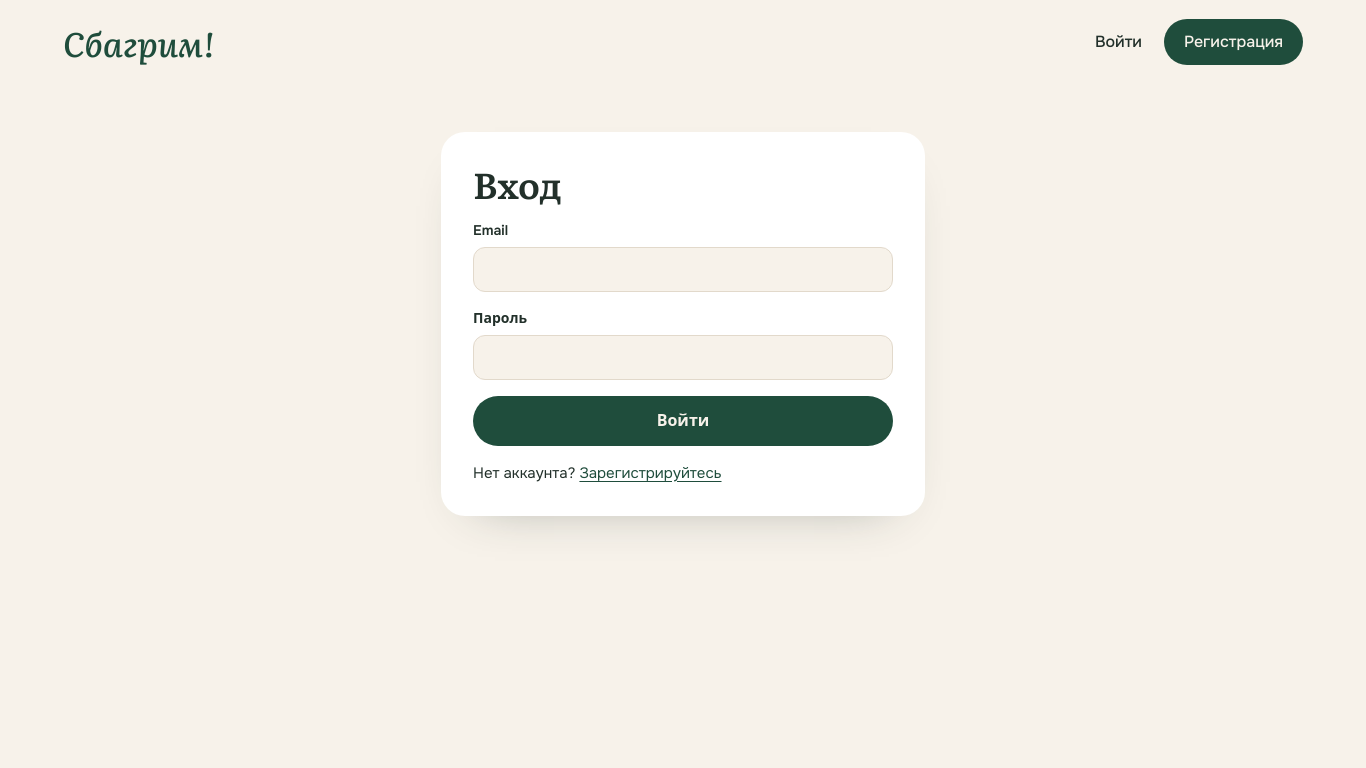
Test case: вход и регистрация › после входа показывает имя пользователя и сохраняет токен
Type "ivan@mail.ru" into the field labelled "Email" at (683, 269), box [473, 247, 893, 292]
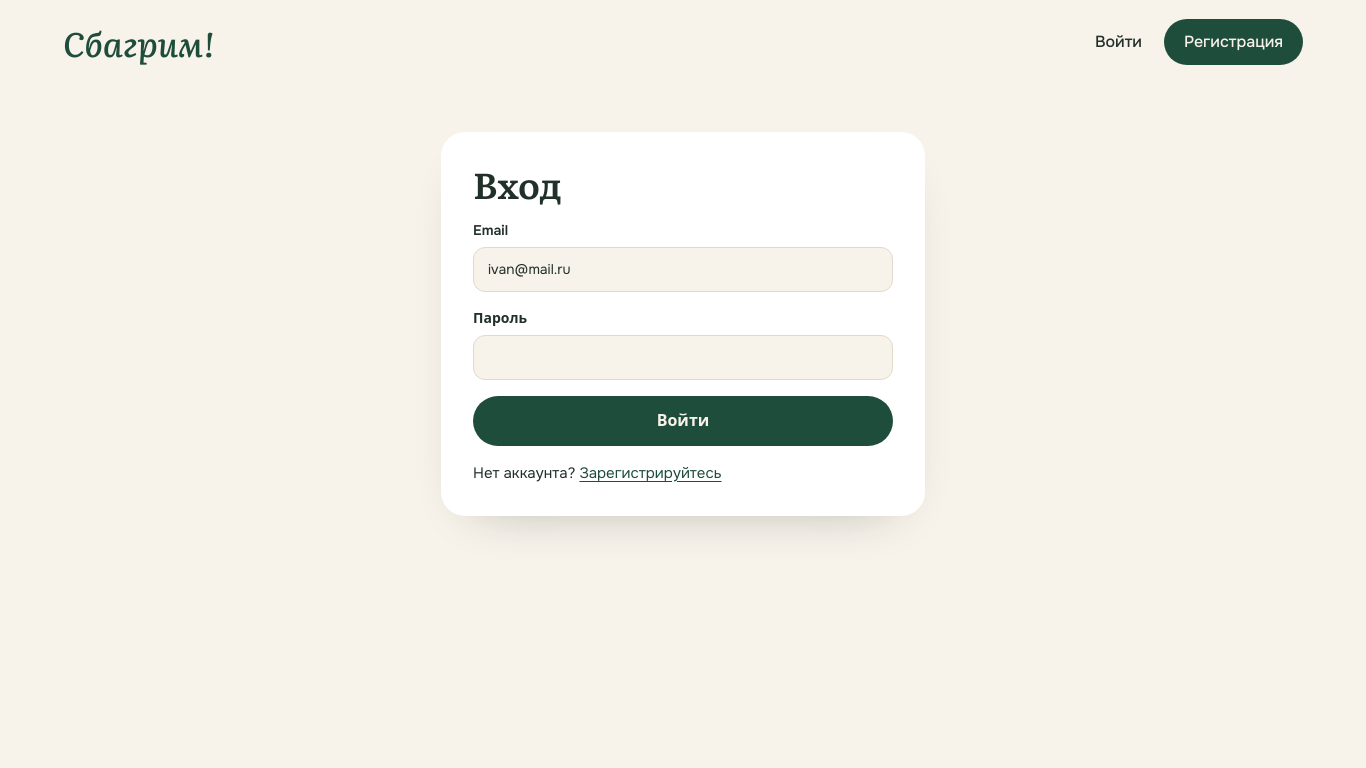
Type "secret12" into the password field labelled "Пароль" at (683, 357), box [473, 335, 893, 380]
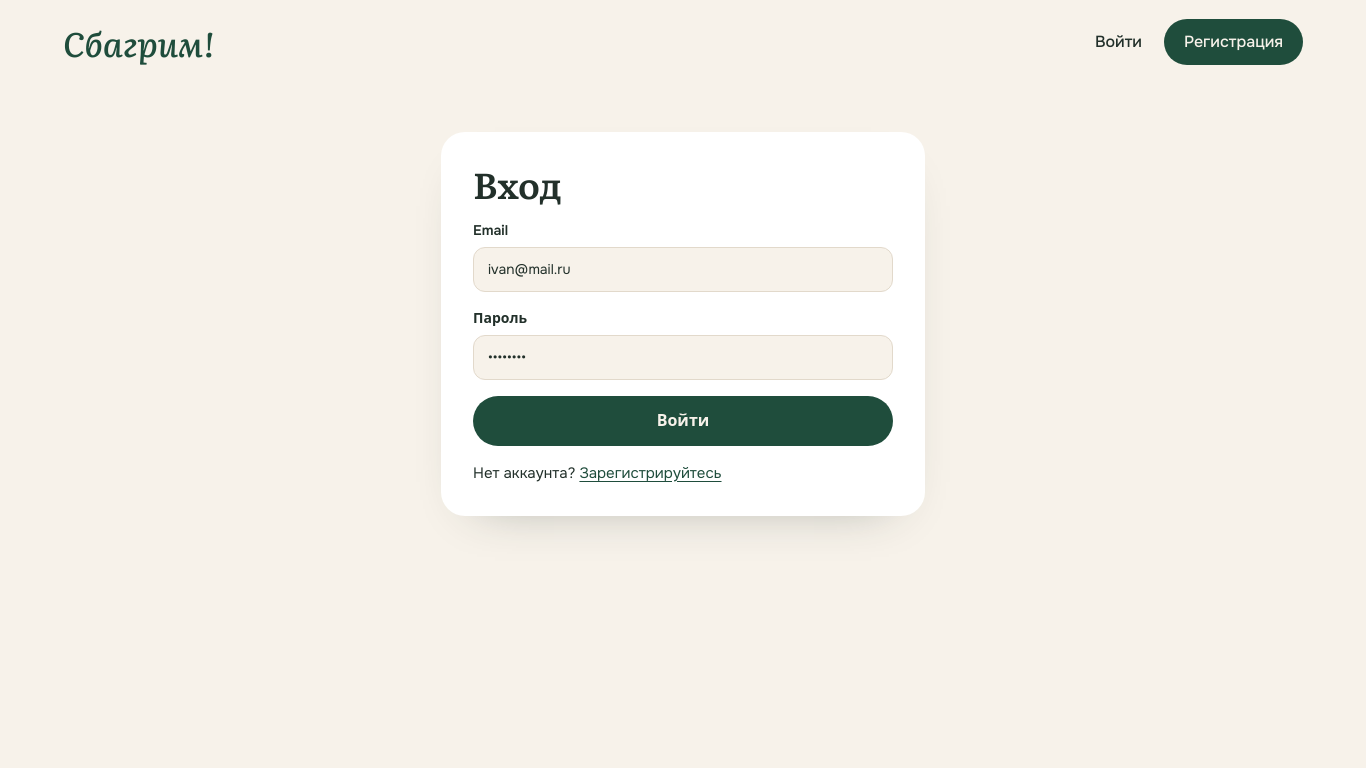
Click the button "Войти" at (683, 421), box [473, 396, 893, 446]
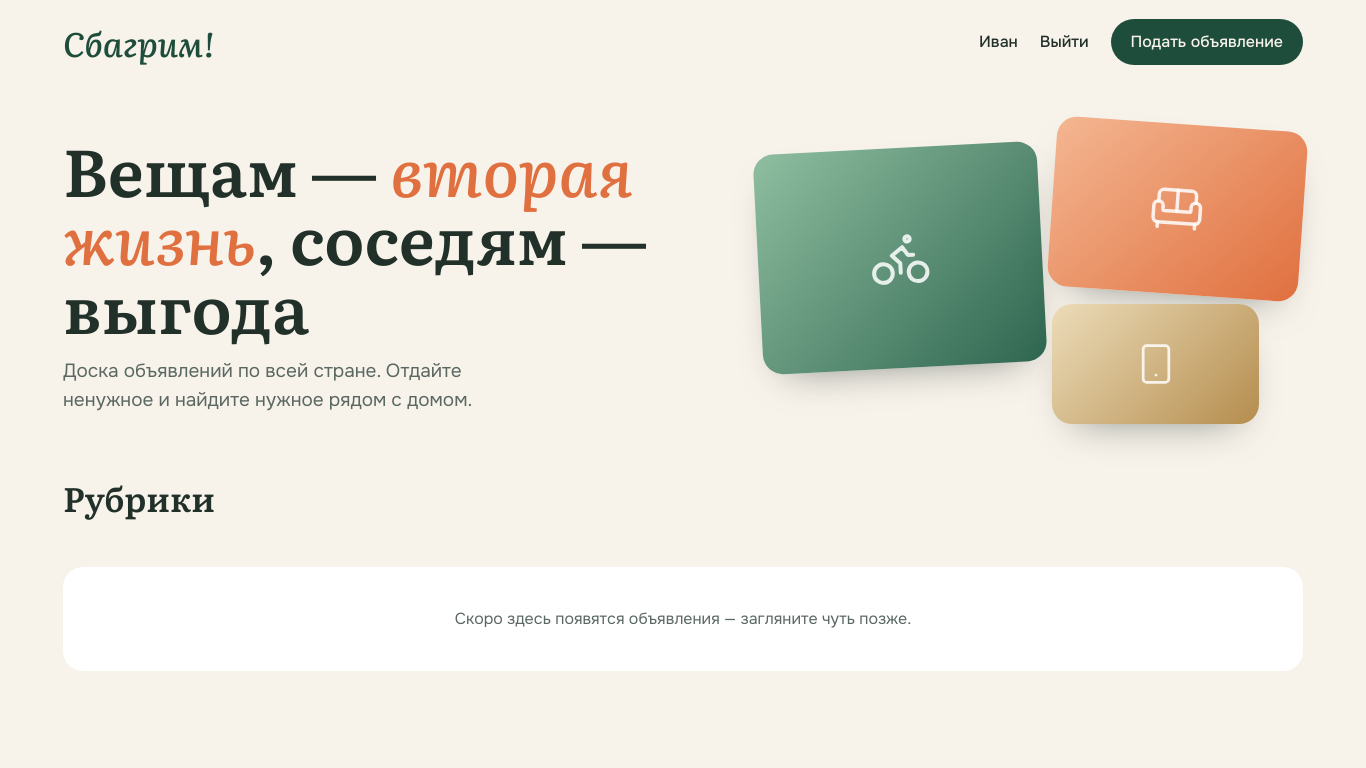
Expected: the text "Иван" is shown, [979, 30, 1018, 54]
